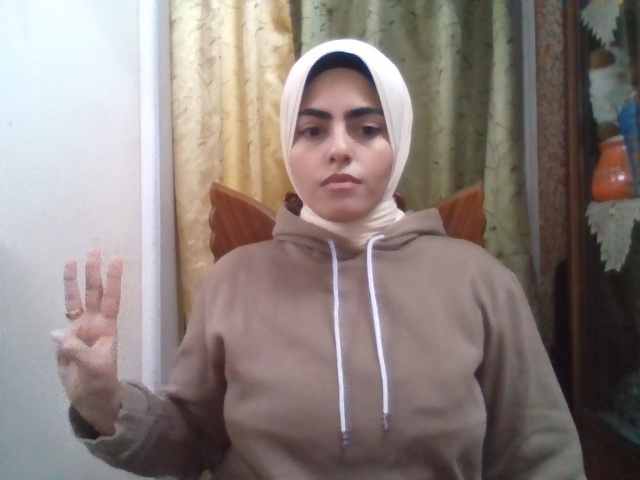W: (52, 245, 124, 405)
